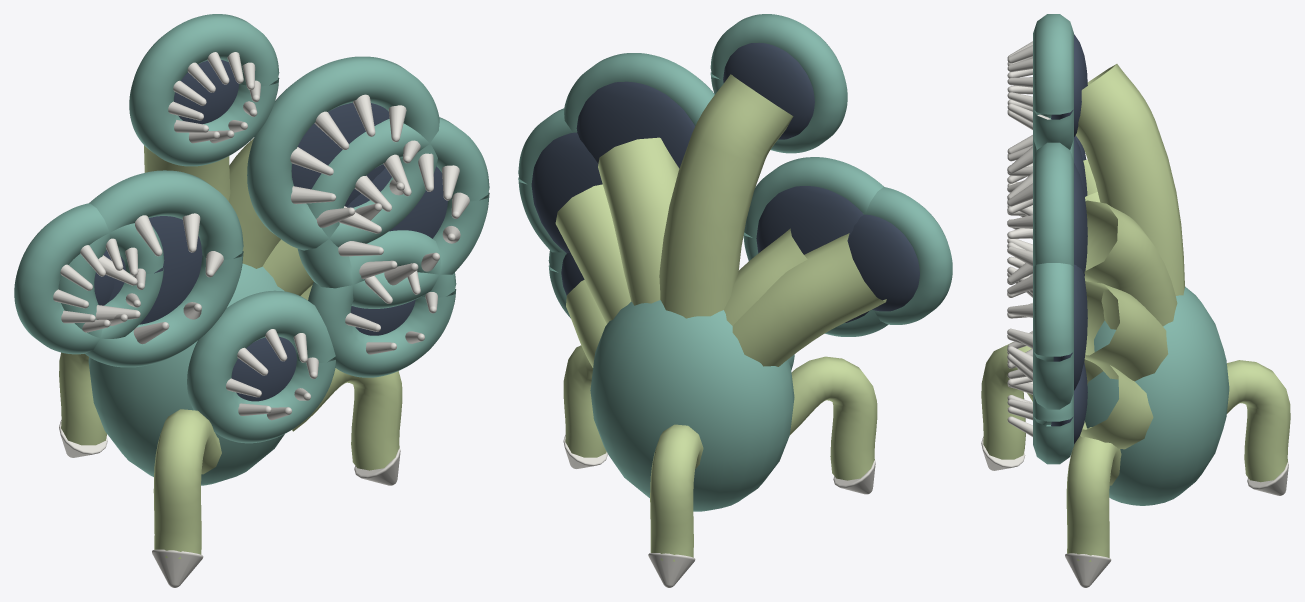
The model's file is bio_manymouth_10_near.glb.
The picture shows the model from 3 angles, left to right: view 1: azimuth 30°, elevation 25°; view 2: azimuth 150°, elevation 25°; view 3: azimuth 270°, elevation 25°; orthographic projection. The views are drawn at different scales.
Visible parts, largest first — view 1: Raised oral lip.003, Raised oral lip.001, Raised oral lip.002, Raised oral lip.006, Raised oral lip.005, Central branching knot, Raised oral lip.004, Raised oral lip, Crooked support.001, Crooked support.002, Inward tooth.040, Inward tooth.021 (+17 smaller); view 2: Central branching knot, Bent oral neck.006, Bent oral neck.004, Bent oral neck.003, Raised oral lip.006, Crooked support.001, Recessed mouth cavity.003, Bent oral neck.005, Crooked support, Raised oral lip.004, Raised oral lip.001, Raised oral lip.003 (+12 smaller); view 3: Central branching knot, Bent oral neck.006, Bent oral neck.003, Raised oral lip.005, Crooked support, Crooked support.002, Bent oral neck.005, Raised oral lip.006, Raised oral lip.003, Crooked support.001, Bent oral neck, Raised oral lip (+13 smaller).
Part boxes in pixels (box(x1,y1,x2,y2)): Raised oral lip.003: box(247, 56, 439, 250); Raised oral lip.001: box(58, 170, 243, 367); Raised oral lip.002: box(187, 290, 335, 443); Raised oral lip.006: box(129, 14, 279, 166); Raised oral lip.005: box(297, 117, 489, 308); Central branching knot: box(88, 263, 284, 485); Raised oral lip.004: box(14, 203, 164, 354); Raised oral lip: box(308, 230, 456, 377); Crooked support.001: box(153, 409, 221, 558); Crooked support.002: box(292, 368, 402, 470); Inward tooth.040: box(338, 153, 469, 285); Inward tooth.021: box(290, 94, 420, 227); Central branching knot: box(590, 300, 794, 511); Bent oral neck.006: box(659, 74, 793, 318); Bent oral neck.004: box(732, 233, 886, 366); Bent oral neck.003: box(598, 137, 679, 305); Raised oral lip.006: box(710, 14, 847, 153); Crooked support.001: box(789, 356, 877, 480); Recessed mouth cavity.003: box(576, 81, 695, 168); Bent oral neck.005: box(555, 184, 630, 323); Crooked support: box(650, 424, 703, 561); Raised oral lip.004: box(863, 187, 952, 324); Raised oral lip.001: box(743, 157, 888, 336); Raised oral lip.003: box(564, 53, 714, 132); Central branching knot: box(1071, 286, 1229, 505); Bent oral neck.006: box(1075, 64, 1184, 295); Bent oral neck.003: box(1084, 200, 1177, 329); Raised oral lip.005: box(1033, 263, 1073, 409); Crooked support: box(1227, 360, 1290, 482); Crooked support.002: box(1066, 427, 1121, 561); Bent oral neck.005: box(1084, 281, 1168, 381); Raised oral lip.006: box(1033, 14, 1073, 149); Raised oral lip.003: box(1033, 142, 1073, 266); Crooked support.001: box(981, 342, 1032, 459); Bent oral neck: box(1080, 359, 1153, 449); Raised oral lip: box(1033, 392, 1073, 464).
Bounding box in the file's own units: 2.13 × 2.3 × 1.35.
